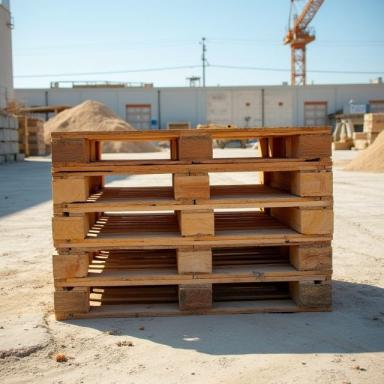pallet: (51, 161, 334, 207), (52, 238, 333, 282), (53, 276, 332, 320), (51, 201, 334, 243), (51, 126, 332, 167), (211, 281, 292, 312), (85, 140, 171, 165), (212, 246, 281, 271), (104, 173, 172, 187), (212, 138, 258, 158), (208, 172, 260, 186), (97, 249, 176, 255), (94, 284, 177, 289), (101, 300, 179, 305)
